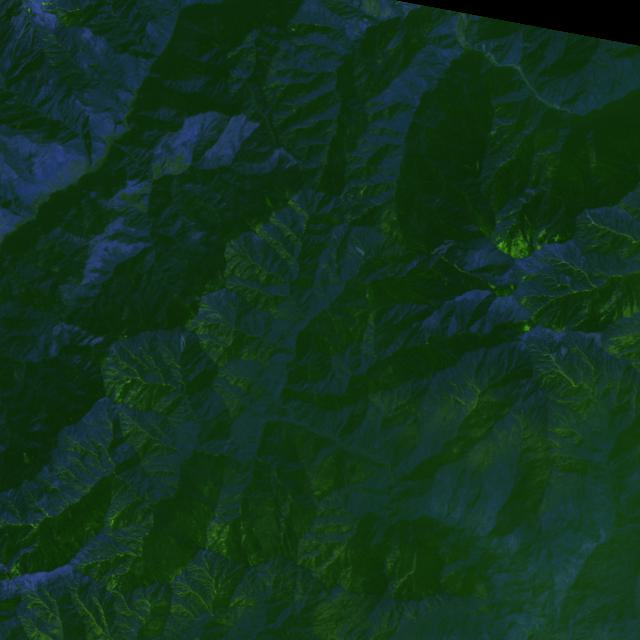landslides: (23, 611, 56, 640), (12, 24, 31, 63), (451, 392, 470, 413), (0, 0, 20, 17), (540, 372, 560, 387), (496, 209, 519, 220), (490, 124, 515, 134), (560, 347, 569, 367), (606, 233, 617, 249), (28, 598, 42, 610), (139, 347, 152, 359), (202, 299, 214, 310), (71, 560, 85, 569), (23, 445, 30, 463), (198, 308, 219, 314), (78, 553, 89, 564), (356, 246, 366, 258), (493, 127, 508, 135), (224, 437, 232, 452), (24, 591, 39, 599), (112, 347, 121, 360), (484, 64, 495, 74), (332, 232, 340, 245)
